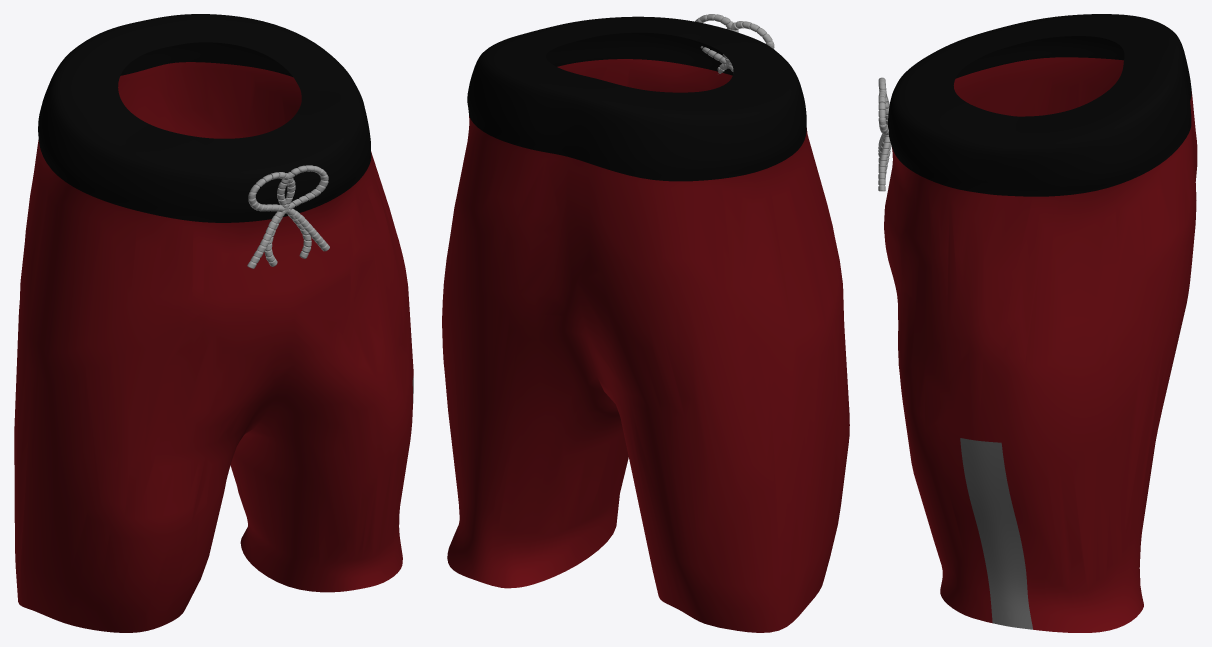
The model's file is Pantaloneta-draco.glb.
The picture shows the model from 3 angles, left to right: view 1: azimuth 30°, elevation 25°; view 2: azimuth 150°, elevation 25°; view 3: azimuth 270°, elevation 25°; orthographic projection. The views are drawn at different scales.
Visible parts, largest first — view 1: pantaloneta.002; view 2: pantaloneta.002; view 3: pantaloneta.002.
Part boxes in pixels (box(x1,y1,x2,y2)): pantaloneta.002: box(14, 14, 413, 632); pantaloneta.002: box(442, 14, 849, 632); pantaloneta.002: box(878, 14, 1197, 632).
Bounding box in the file's own units: 0.8356 × 1.16 × 0.6683.
